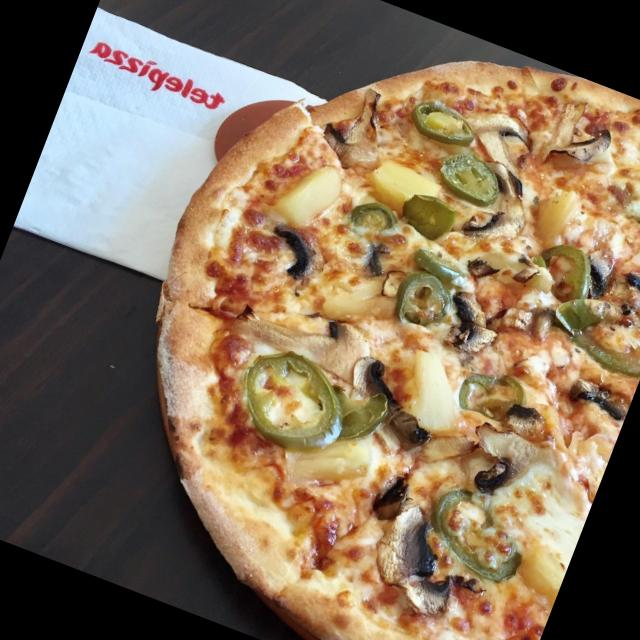mushrooms: (233, 310, 372, 391), (340, 359, 432, 457), (457, 161, 535, 258), (460, 111, 528, 197), (376, 505, 435, 595), (310, 87, 380, 147), (442, 288, 492, 358), (548, 116, 612, 170), (270, 223, 318, 283), (568, 381, 627, 426), (498, 404, 552, 450), (402, 574, 454, 621), (472, 455, 529, 497), (583, 249, 613, 300), (628, 272, 640, 313)
pizza: (154, 61, 640, 640)
